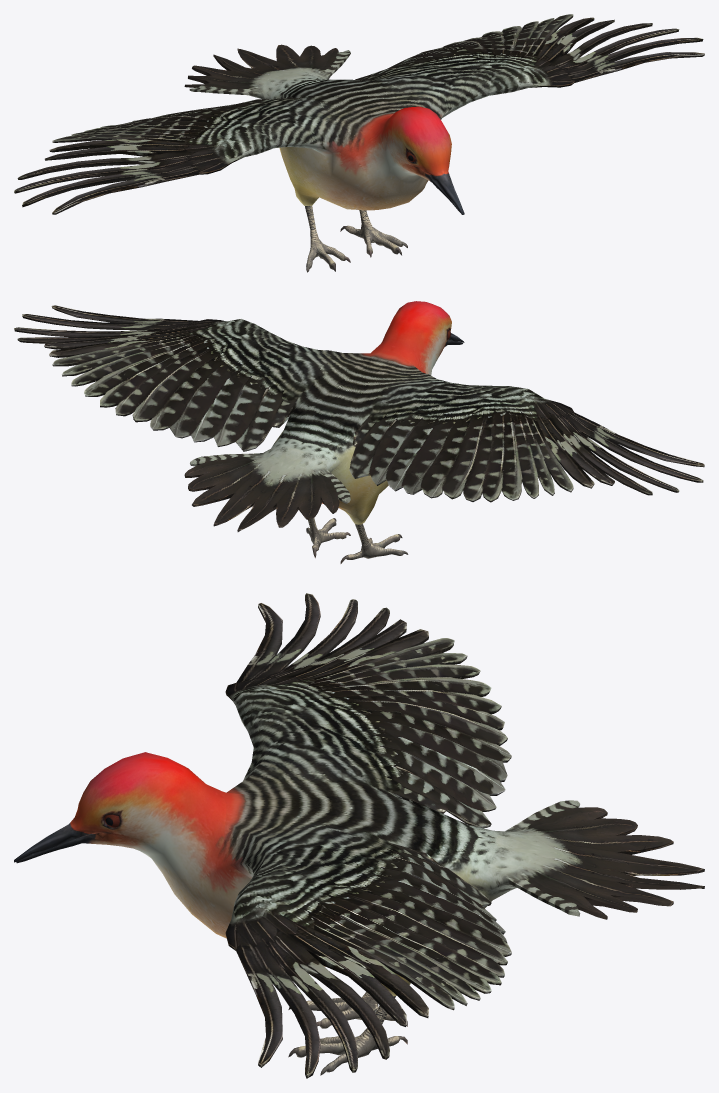
Rendered from Woodpecker.fbx.
3 views of the same model, one above another, from view 1: azimuth 30°, elevation 25°; view 2: azimuth 150°, elevation 25°; view 3: azimuth 270°, elevation 25° (orthographic). The views are drawn at different scales.
Visible parts, largest first — view 1: sm_1_0_0; view 2: sm_1_0_0; view 3: sm_1_0_0.
Boxes of the visible parts, box(x1,y1,x2,y2) form: sm_1_0_0: box(14, 14, 704, 272); sm_1_0_0: box(14, 301, 704, 563); sm_1_0_0: box(14, 593, 704, 1078).
Size of the model in its own units: 33.54 by 9.12 by 20.3.
1 material, 1 textured.
